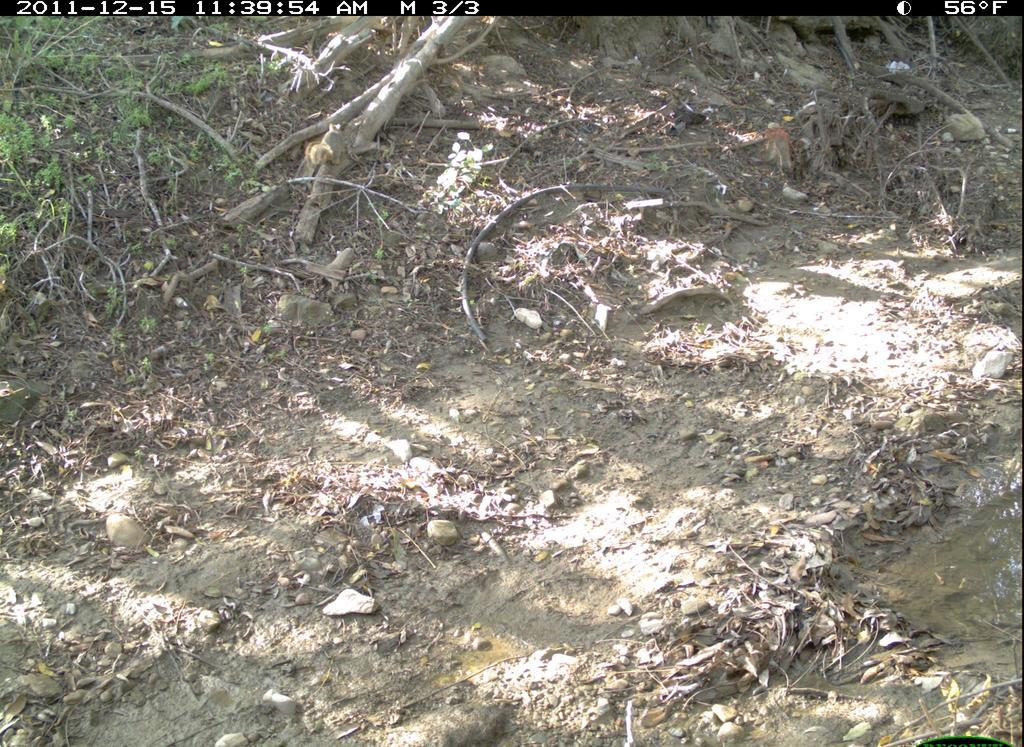squirrel: (305, 114, 353, 178)
